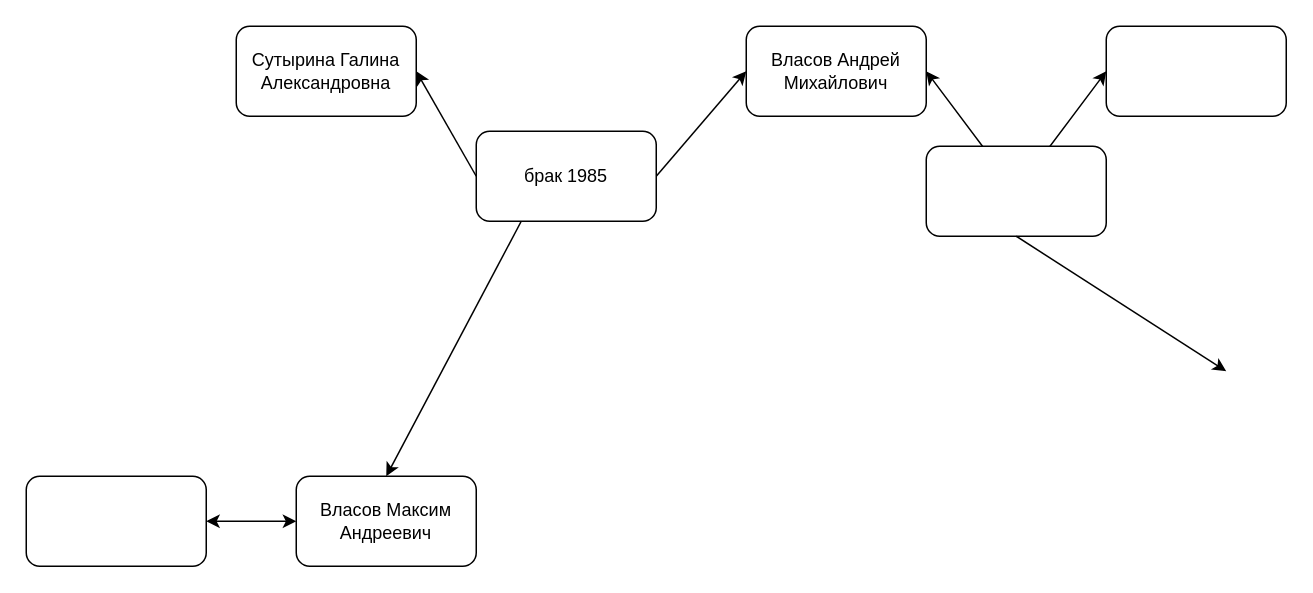
Some shapes in this 1313 by 593 pixel diagram are drawn without their labels. The shapes that lost their labels are listed below. From the top down, each one's centre as x and y in pixels, then its label:
At [1195,70]: "Женщина".
At [115,520]: "Агапеева Александра Борисовна".
